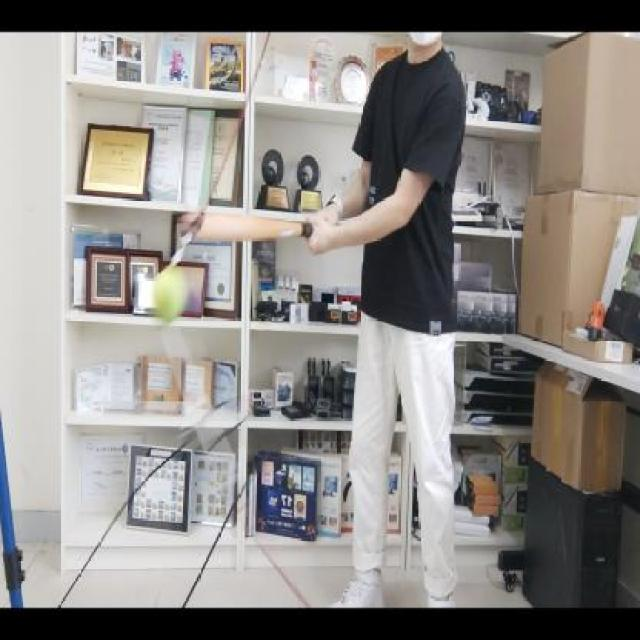baseball: (149, 259, 189, 321)
